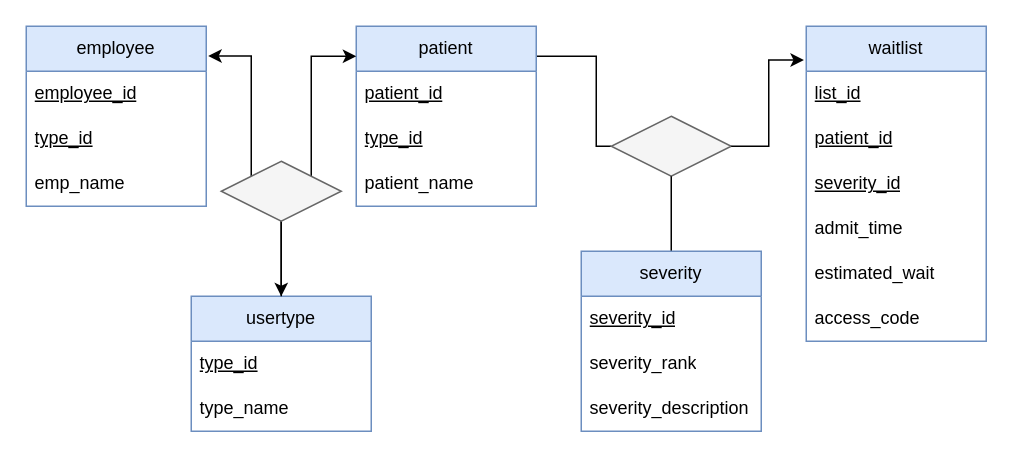
Image size: 1013x458. Some labels were removed from this diagram. The centre of each missing label's shape, as x and y in pixels:
"system" goes at pixel 280 190.
"triage" goes at pixel 670 145.
